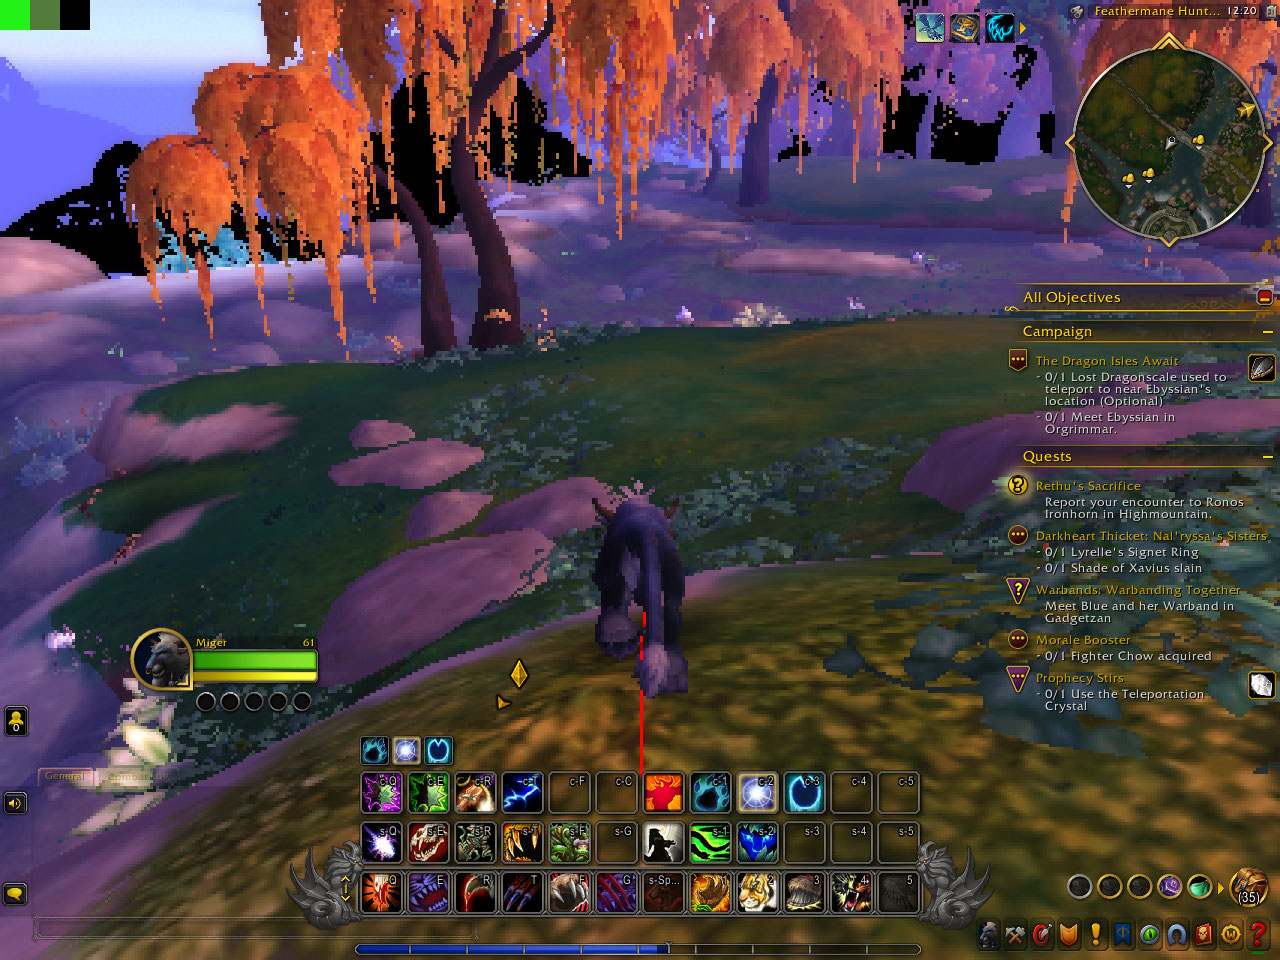ore: (672, 304, 702, 328)
